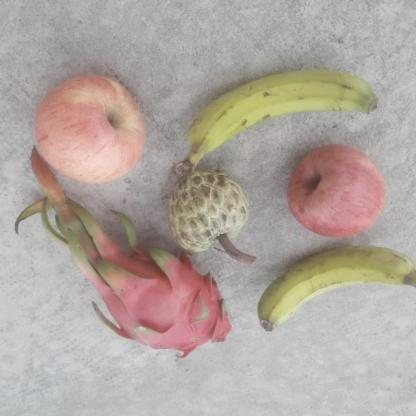annona: (166, 171, 249, 257)
apple: (34, 77, 146, 182), (285, 148, 390, 237)
banana: (173, 66, 379, 178), (253, 244, 416, 334)
pitaya: (101, 256, 232, 356)
